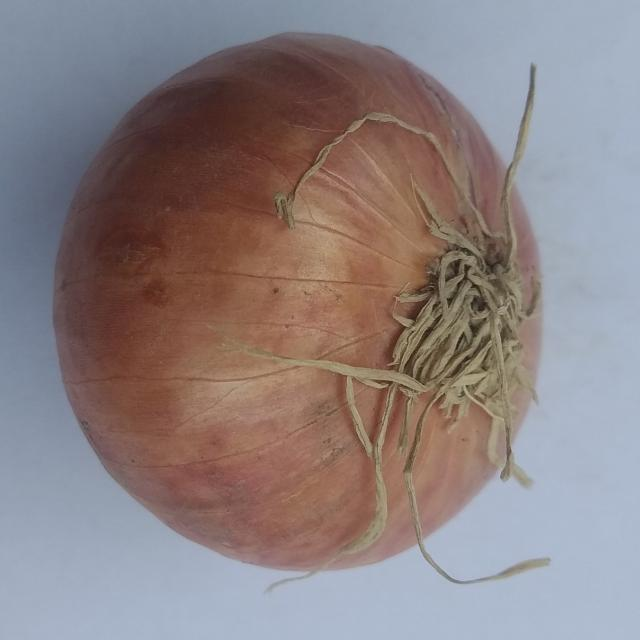onion: (53, 29, 556, 592)
